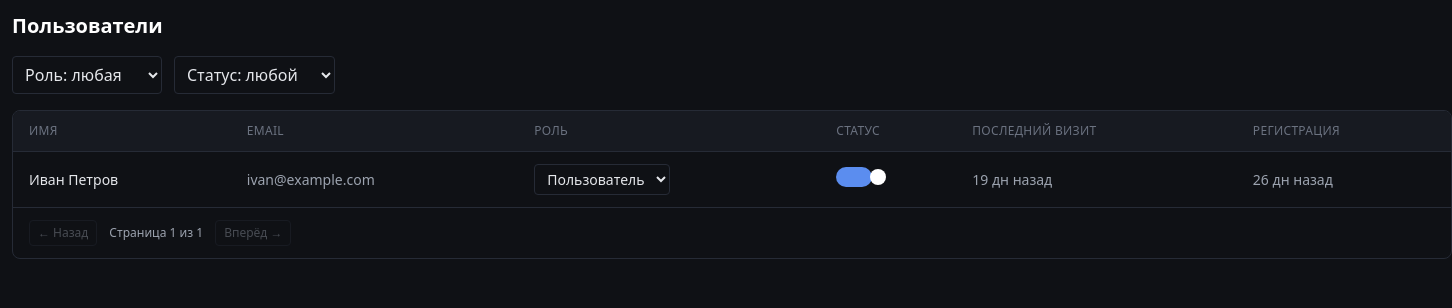
it: UsersPage › should_show_backend_error_message_when_update_fails_with_json_error_body
This screenshot has width=1452, height=308.
Check: the text "Иван Петров" is shown, box [13, 152, 231, 207]
What coordinates should you click on to do the following:
click the switch
I would click on:
 (854, 177)
Its box is [836, 167, 872, 187].
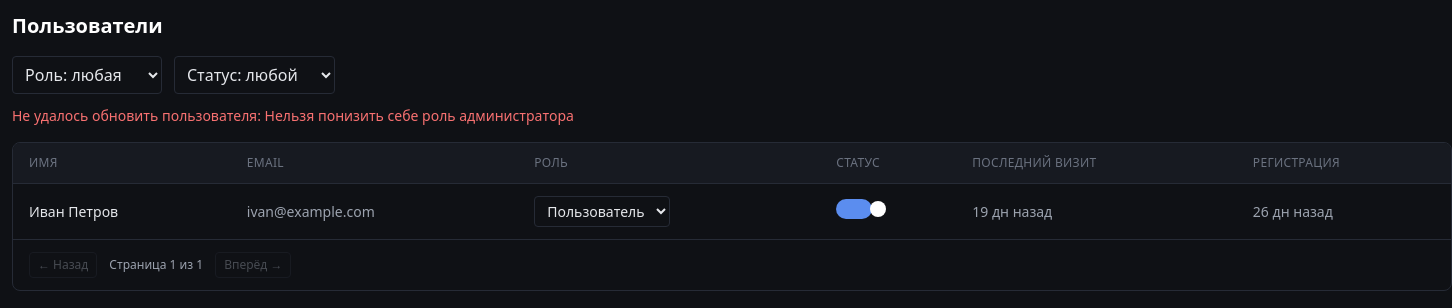
Check: the text "Нельзя понизить себе роль администратора" is shown, box [264, 106, 574, 125]
